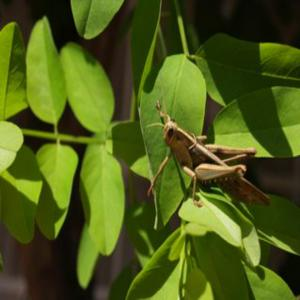locust: (162, 100, 265, 214)
